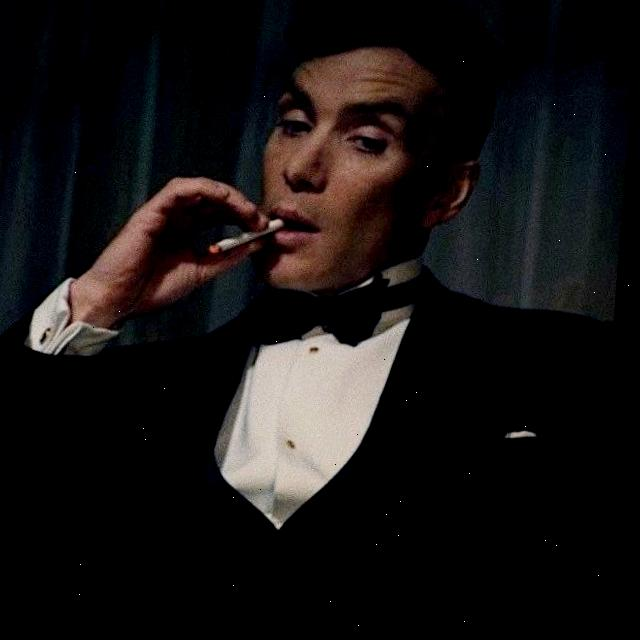cigarette: (214, 222, 287, 256)
